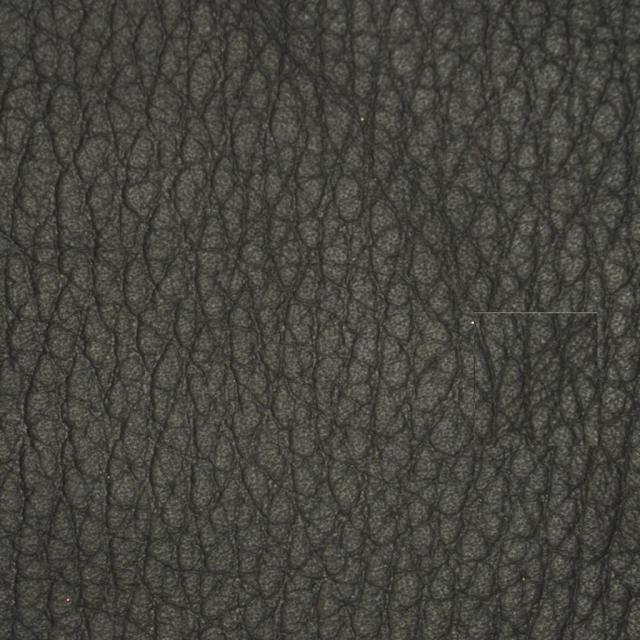Healed Injury: (448, 204, 617, 465)
